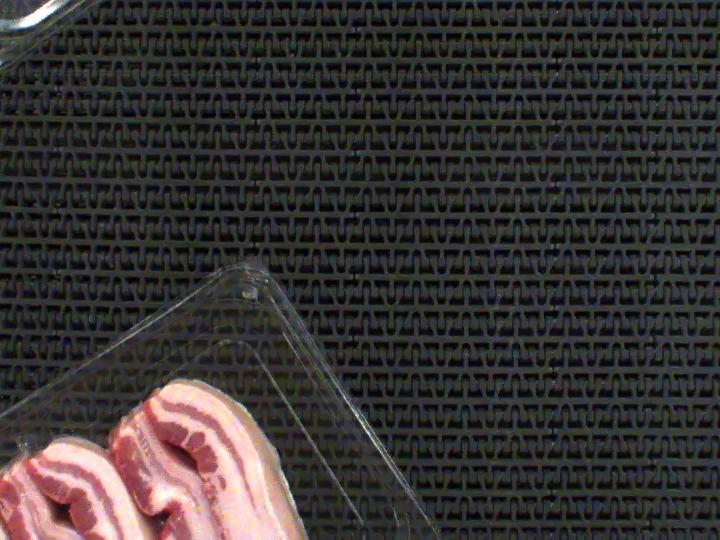packaging-error: (7, 433, 66, 452)
